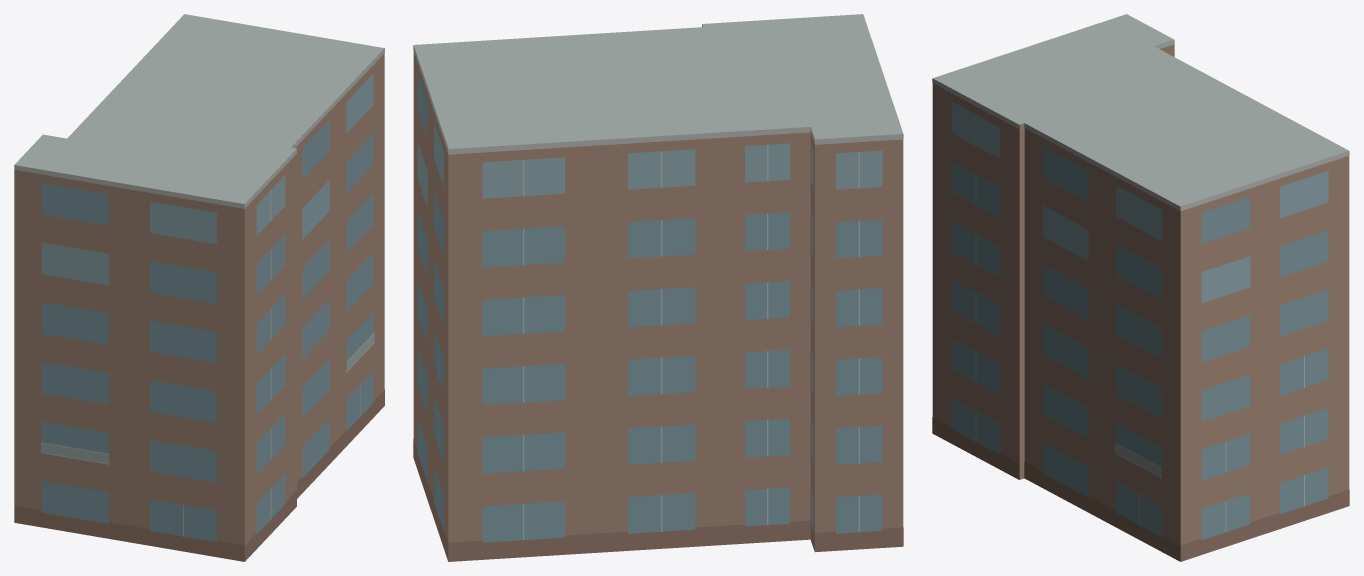
File: survey-upis-32746031.glb
3 views of the same model, side by side, from view 1: azimuth 30°, elevation 25°; view 2: azimuth 150°, elevation 25°; view 3: azimuth 270°, elevation 25° (orthographic). The views are drawn at different scales.
Visible parts, largest first — view 1: survey-upis-32746031.tmp; view 2: survey-upis-32746031.tmp; view 3: survey-upis-32746031.tmp.
Boxes of the visible parts, left/top/right/bottom form: survey-upis-32746031.tmp: left=14, top=14, right=384, bottom=561; survey-upis-32746031.tmp: left=413, top=14, right=903, bottom=561; survey-upis-32746031.tmp: left=932, top=14, right=1349, bottom=561.
Size of the model in its own units: 21.3 by 18.3 by 19.48.
